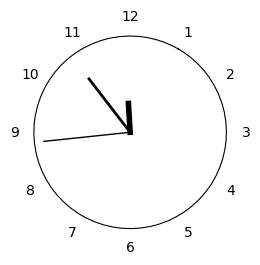12: (122, 9, 139, 23)
circle: (35, 36, 227, 228)
hours: (126, 100, 134, 135)
minutes: (88, 77, 128, 131)
seconds: (43, 132, 129, 142)
